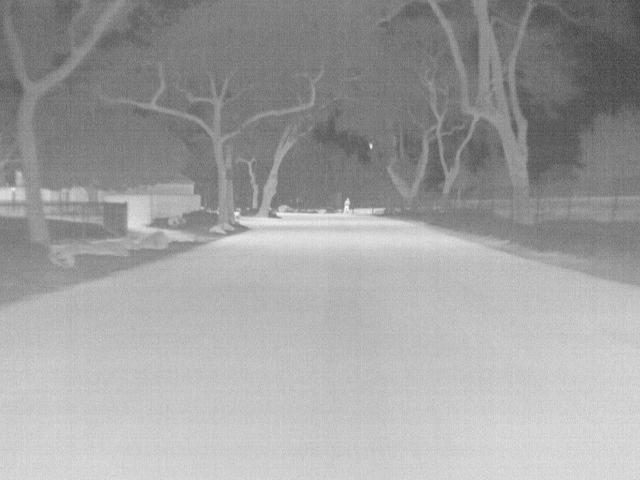person: (343, 198, 351, 212)
